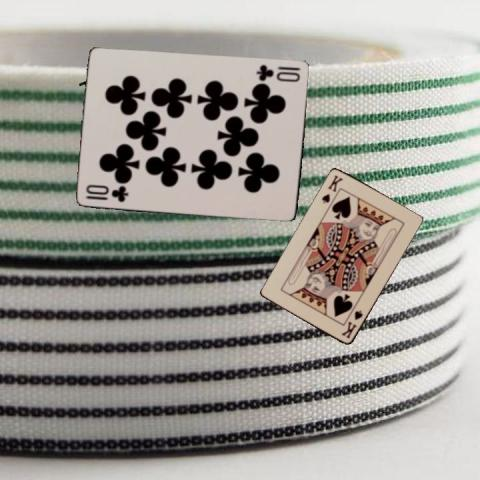10c: (254, 61, 302, 84), (83, 182, 130, 203)
Ks: (339, 307, 364, 340), (319, 173, 344, 205)
